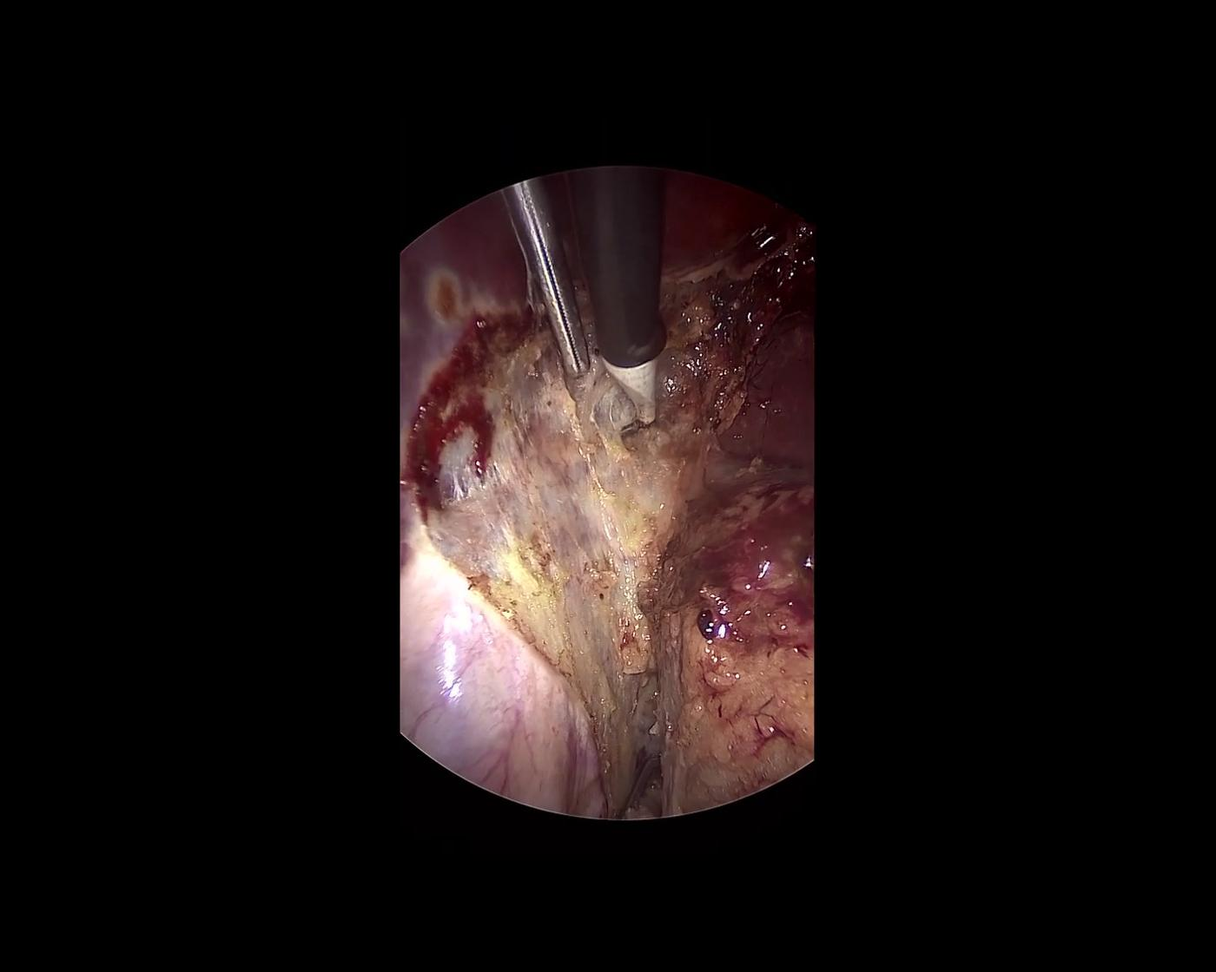Forceps: (566, 164, 672, 440), (496, 174, 594, 384)
Gallbladder: (648, 463, 814, 812)
Liver: (264, 103, 779, 822), (722, 288, 808, 469)
